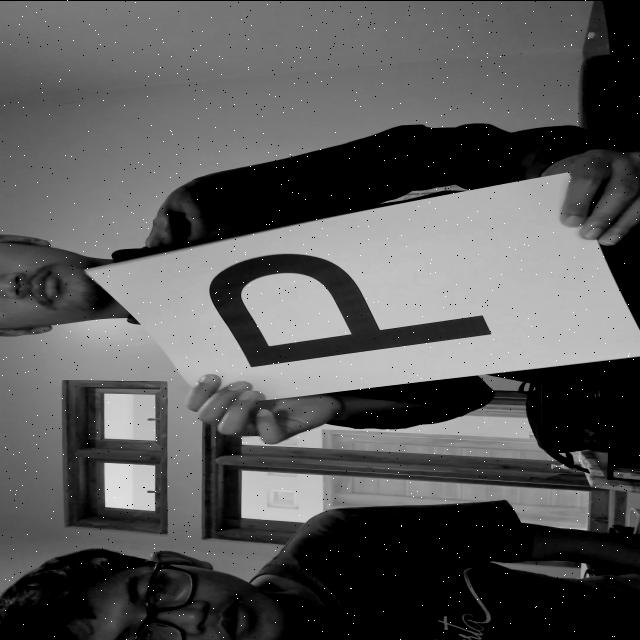p: (197, 239, 519, 378)
